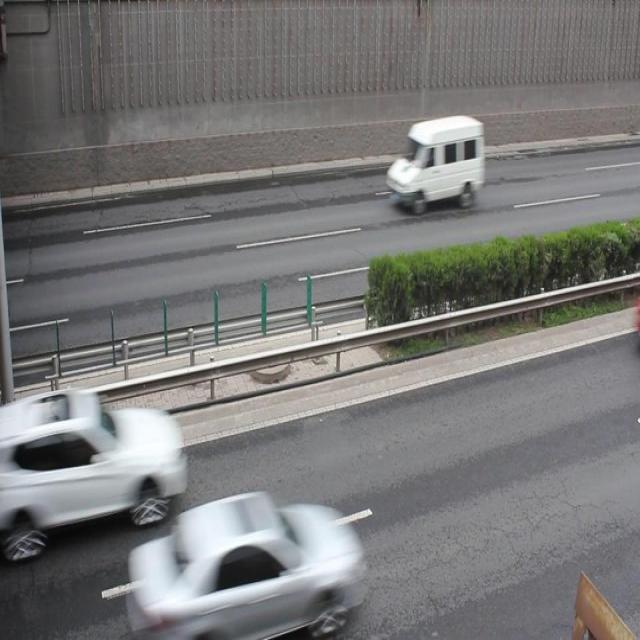car: (123, 489, 358, 640), (23, 394, 184, 546)
truck: (386, 116, 483, 215)
